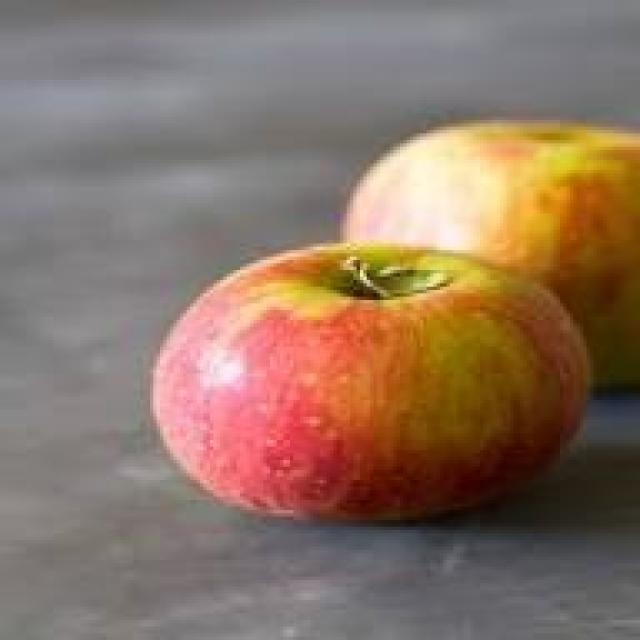apple: (166, 247, 596, 553), (343, 117, 637, 310)
